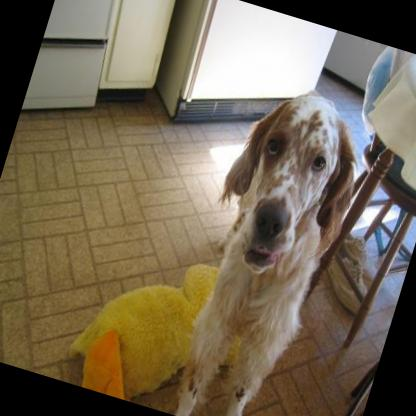English_setter: (152, 69, 378, 416)
